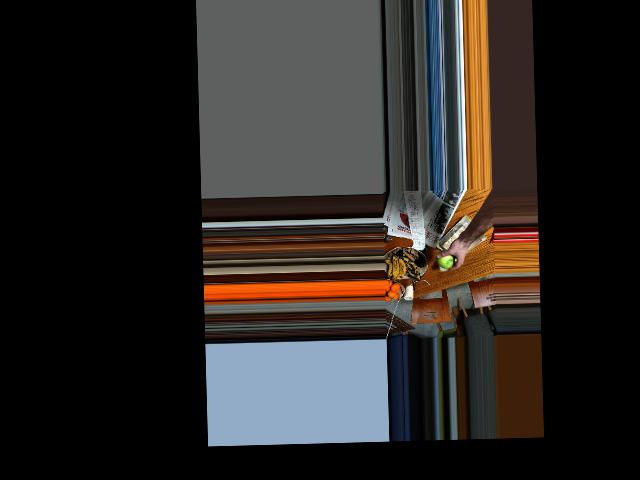apple: (437, 249, 456, 268)
